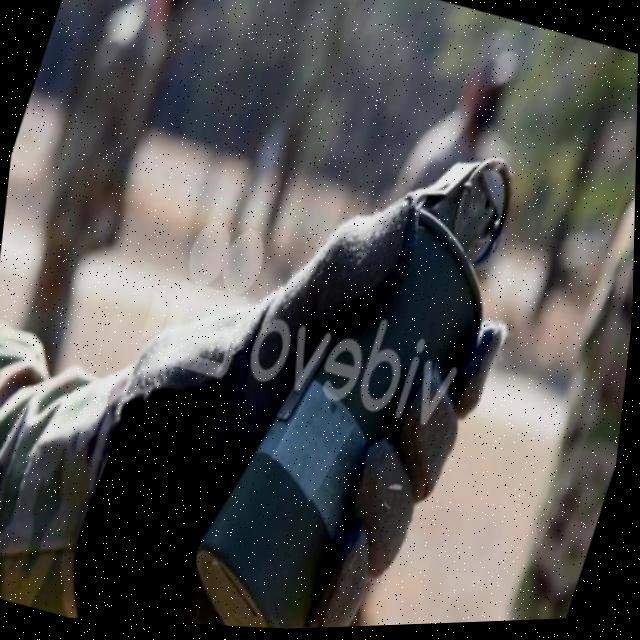grenade: (175, 98, 545, 635)
